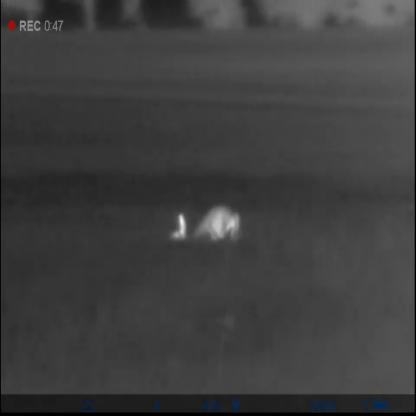rehkitze: (171, 204, 245, 246)
